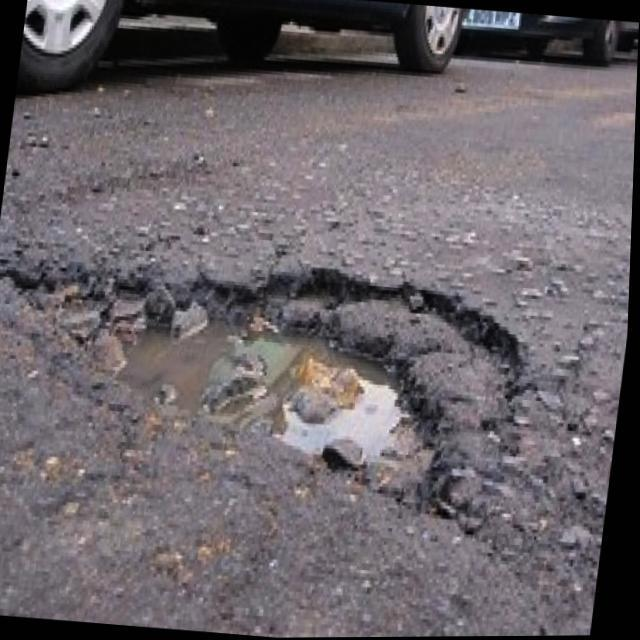Pothole: (11, 268, 515, 534)
